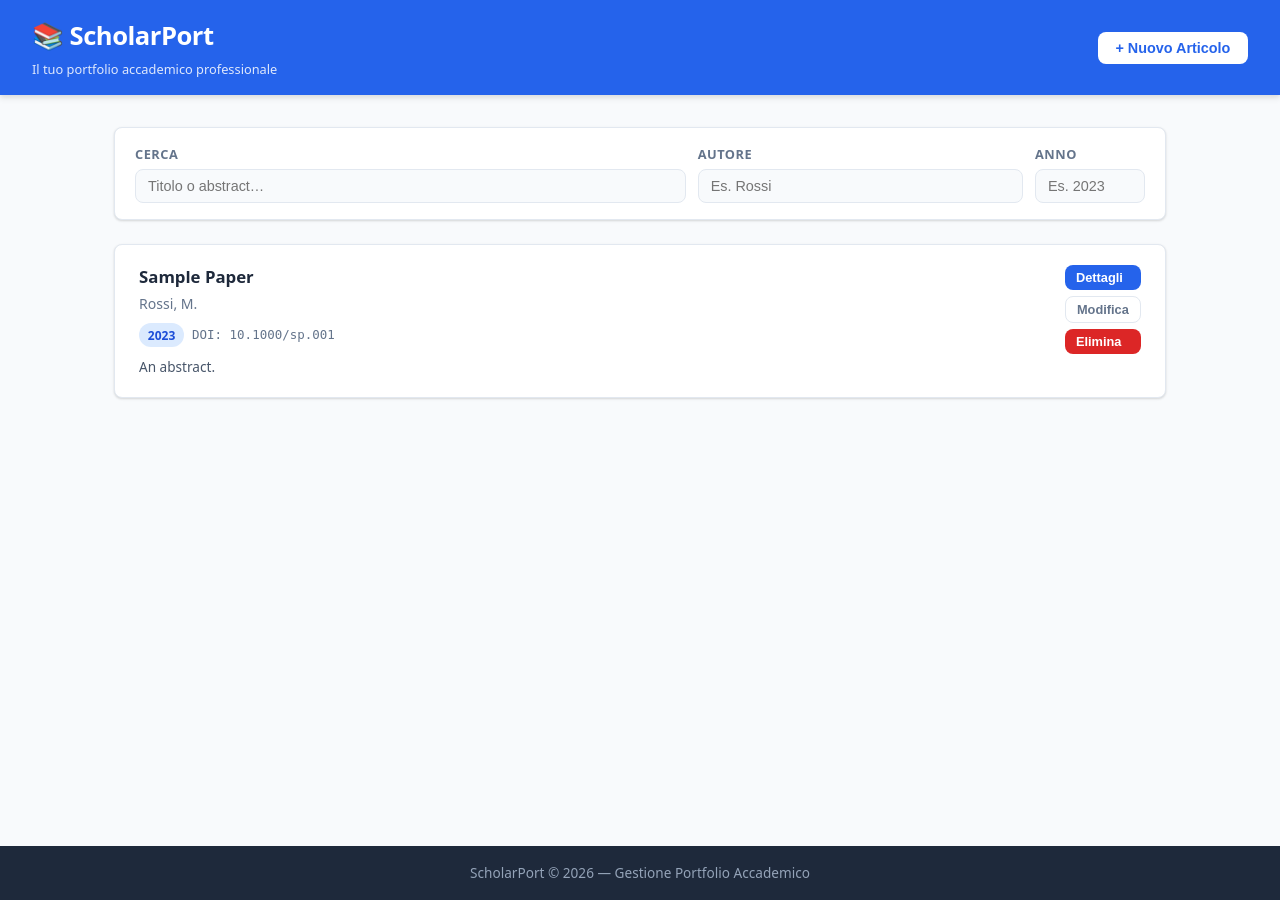
Scenario: App navigation › 2. navigates to the add form when "+ Nuovo Articolo" is clicked
Check: the heading "Sample Paper" is shown, box top-left (139, 265), bottom-right (254, 288)
What coordinates should you click on to do the following:
click the button "+ Nuovo Articolo"
I would click on:
 (1173, 48)
Its box is top-left (1098, 32), bottom-right (1248, 64).
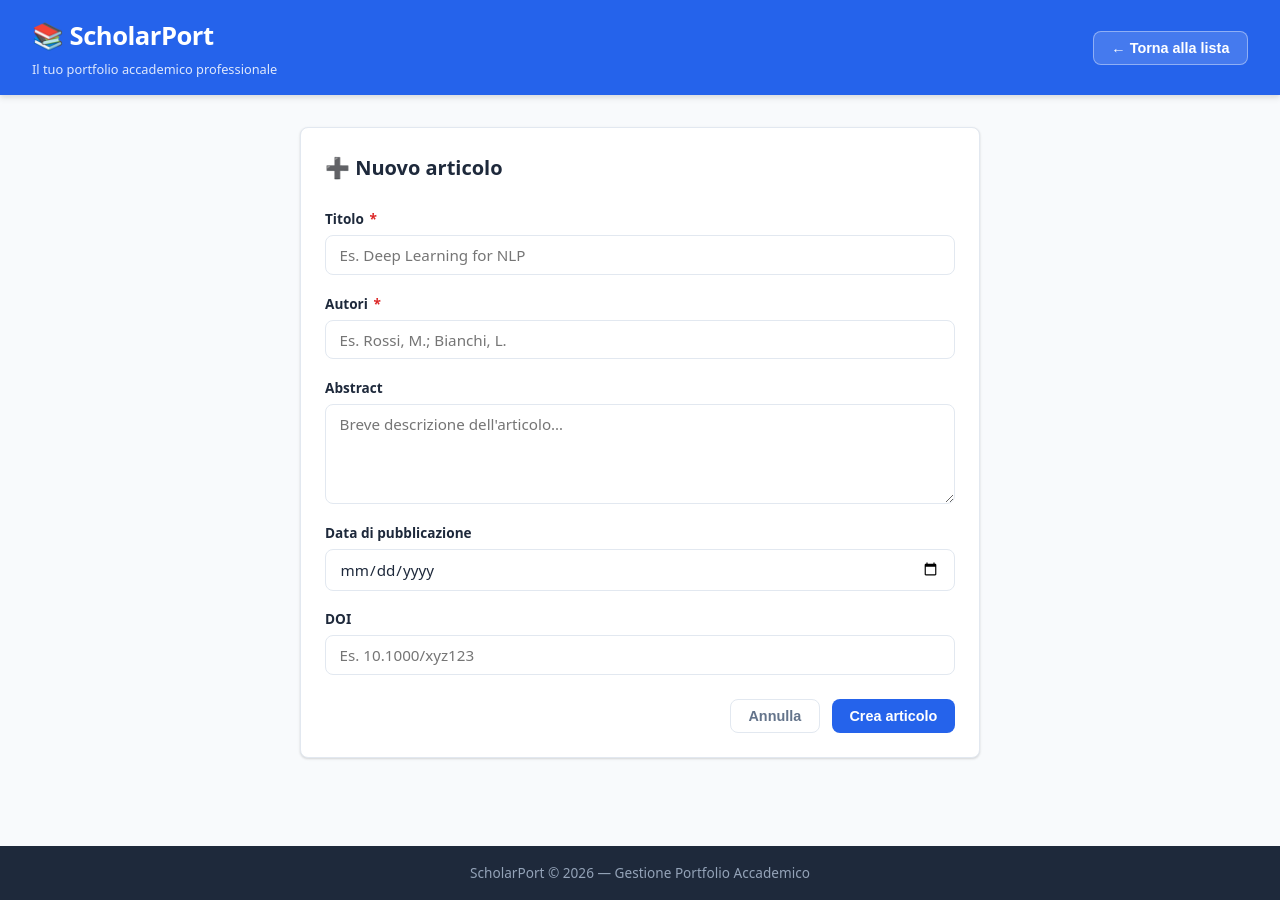
Check: the heading "➕ Nuovo articolo" is shown, box top-left (325, 154), bottom-right (503, 181)
